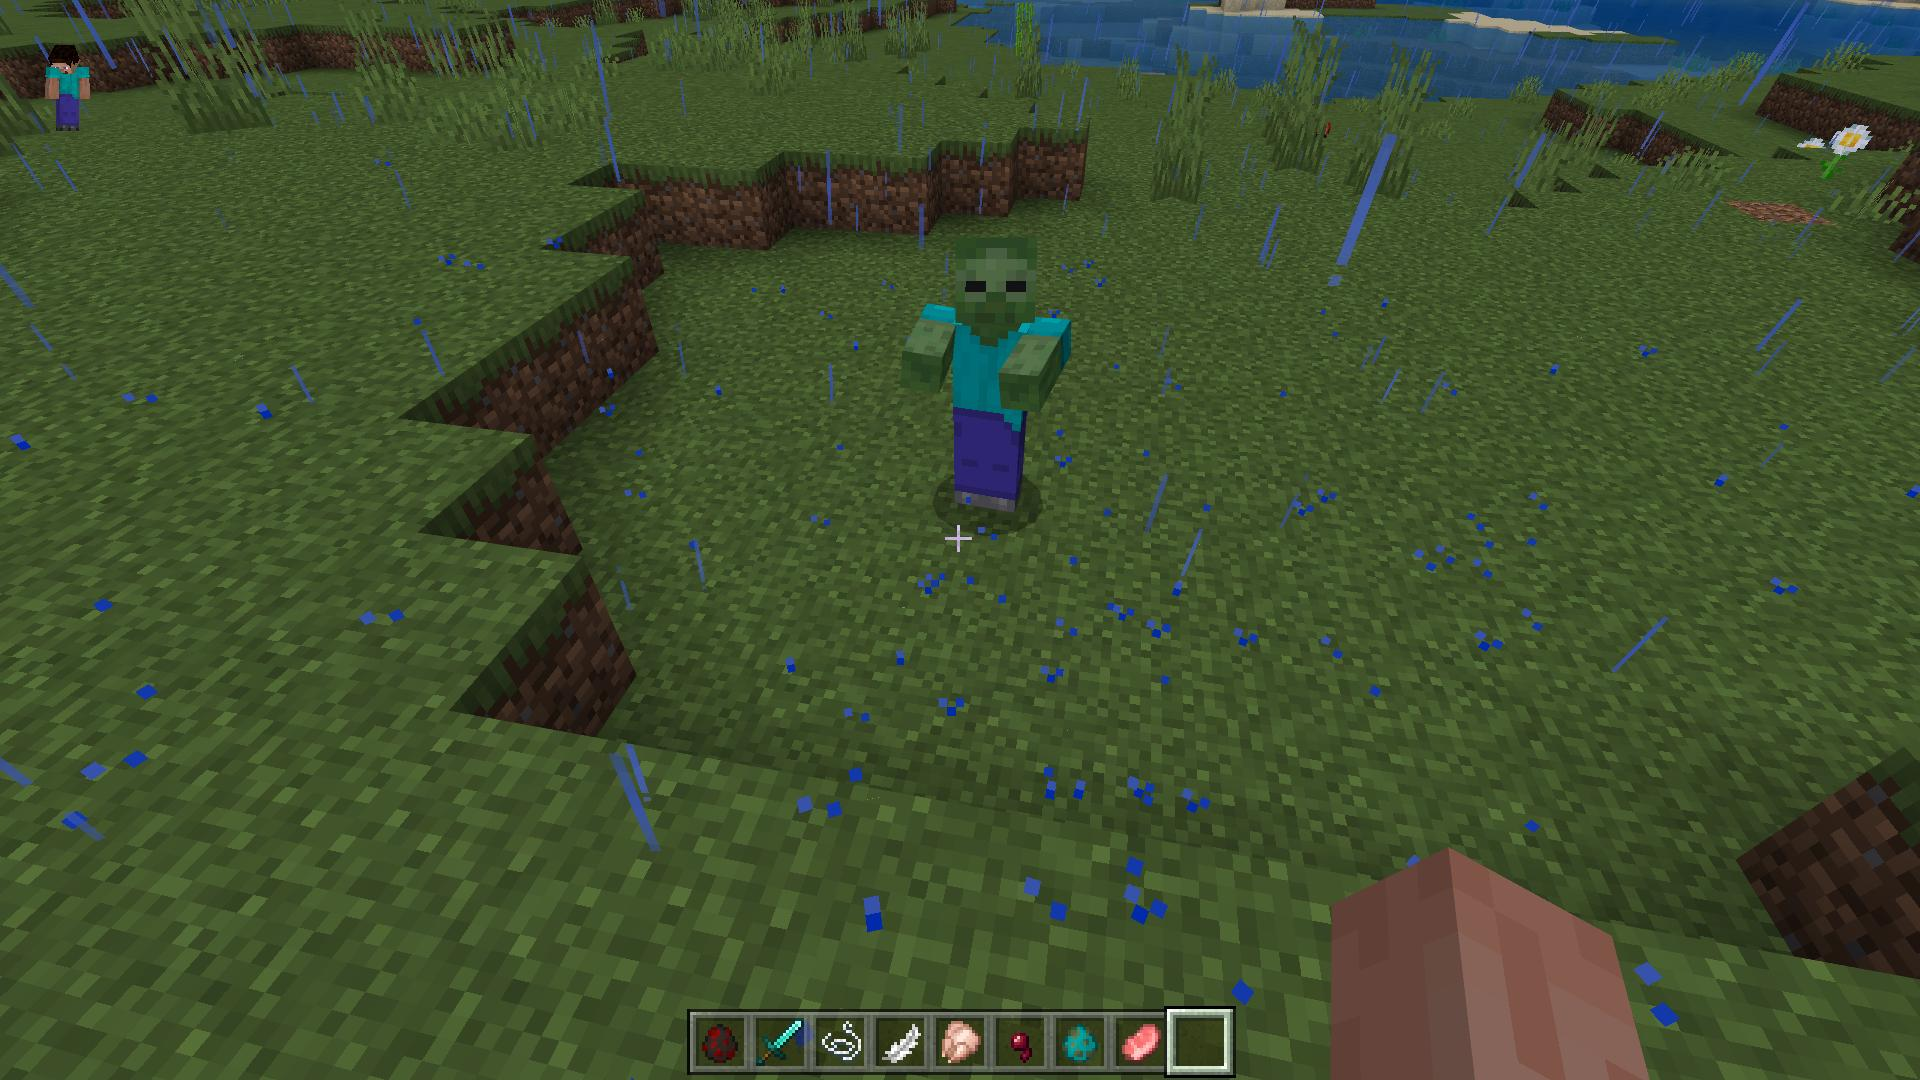zombie: (897, 235, 1075, 525)
